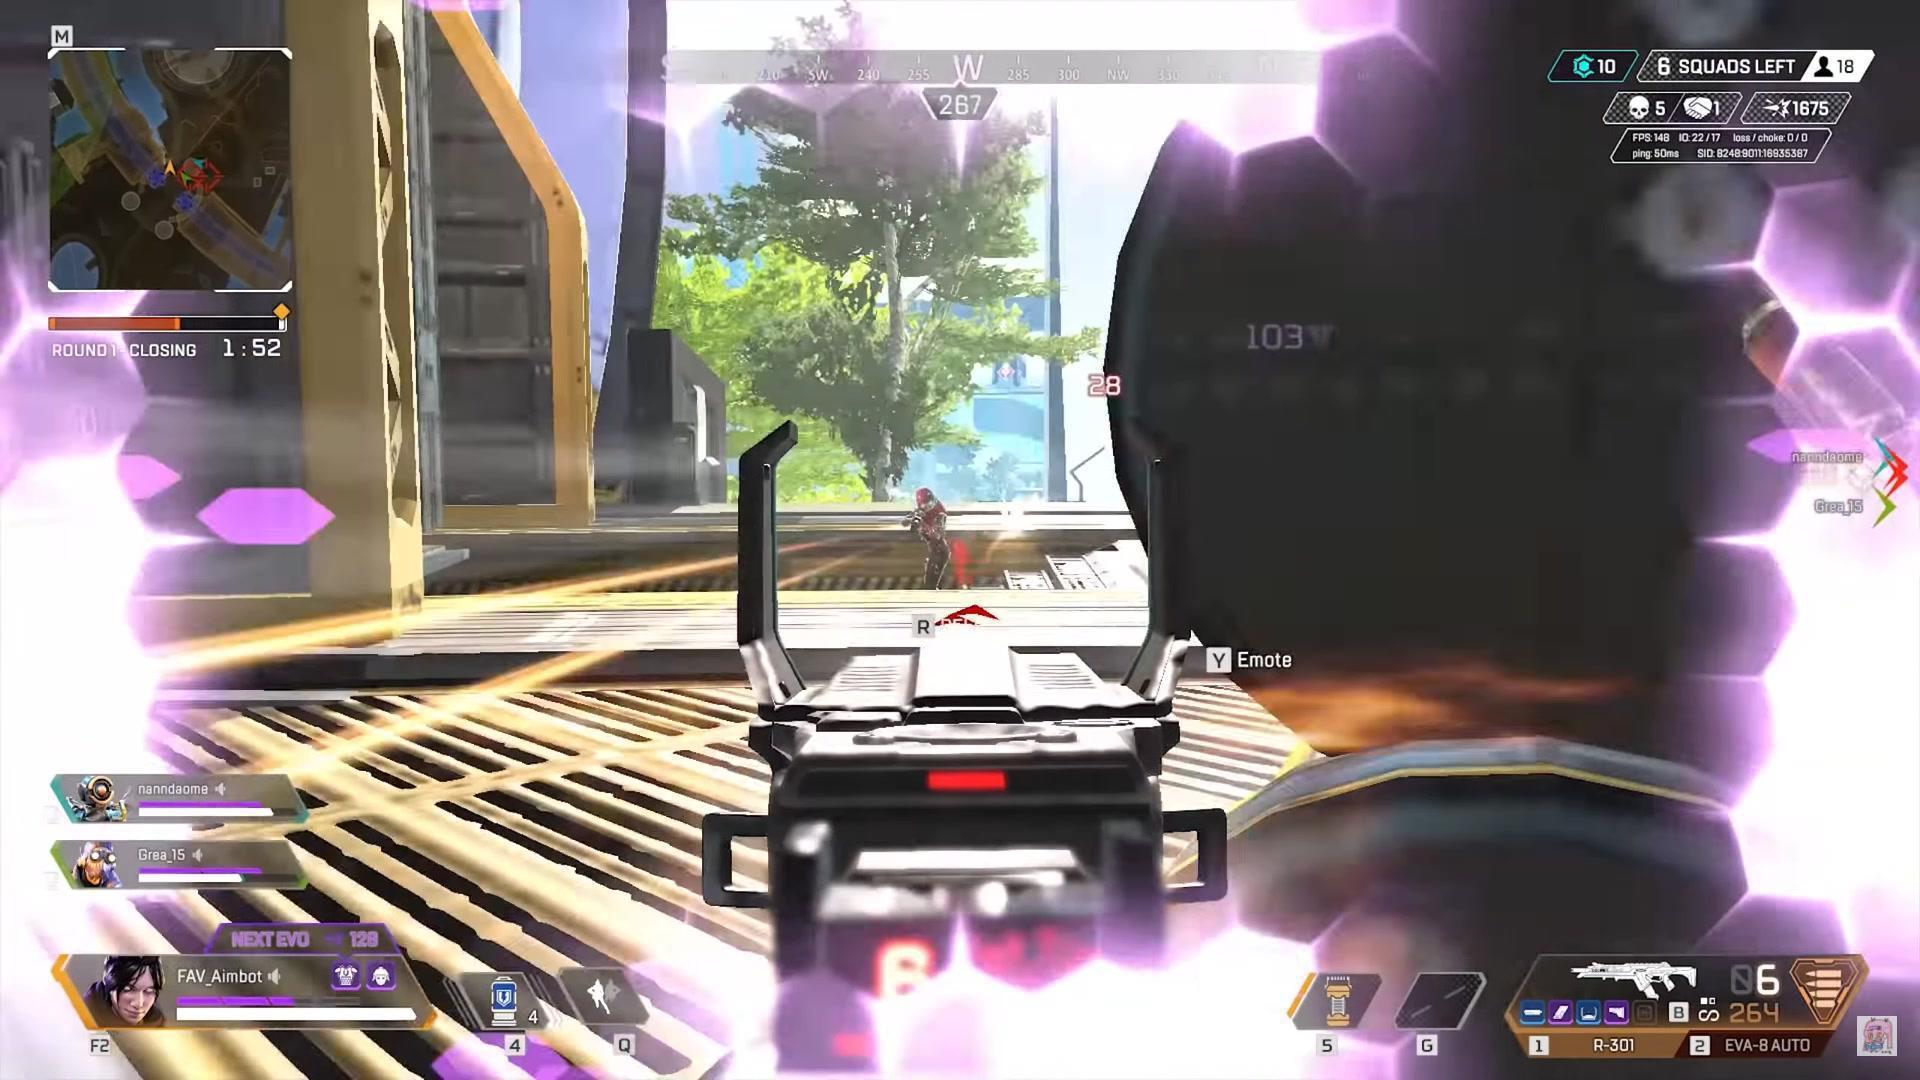avatar: (905, 485, 954, 589)
